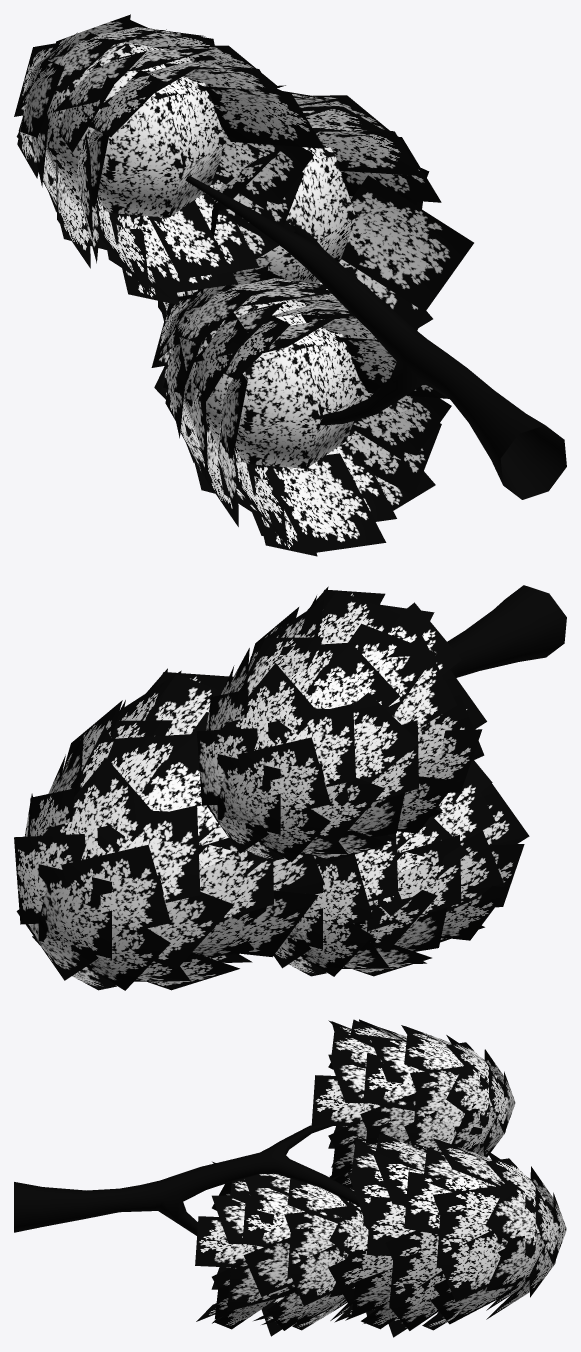
File: Tree_02.fbx
3 renders of one model, top to bottom at view 1: azimuth 30°, elevation 25°; view 2: azimuth 150°, elevation 25°; view 3: azimuth 270°, elevation 25°, orthographic. The views are drawn at different scales.
Visible parts, largest first — view 1: RetopoFlow.010, RetopoFlow.003; view 2: RetopoFlow.010, RetopoFlow.003; view 3: RetopoFlow.010, RetopoFlow.003.
Part boxes in pixels (box(x1,y1,x2,y2)): RetopoFlow.010: box(14, 14, 473, 556); RetopoFlow.003: box(185, 176, 566, 499); RetopoFlow.010: box(14, 586, 529, 990); RetopoFlow.003: box(447, 585, 566, 677); RetopoFlow.010: box(195, 1019, 566, 1337); RetopoFlow.003: box(14, 1125, 359, 1235).
Size of the model in its own units: 254 by 275 by 481.
